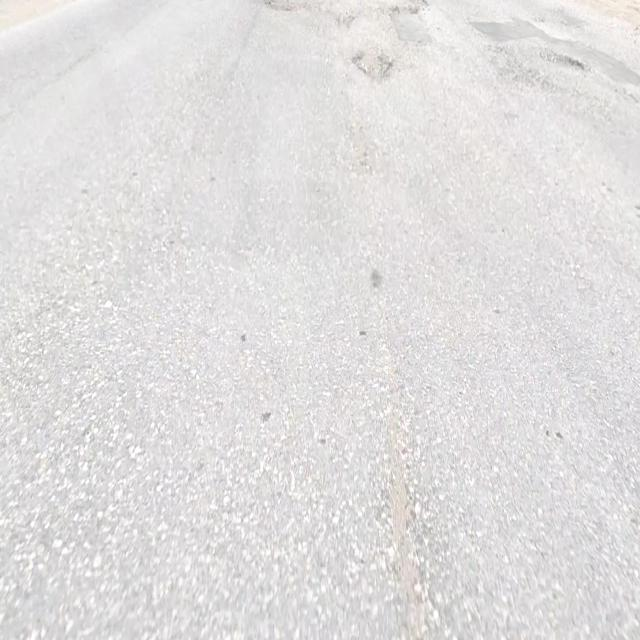Potholes: (351, 46, 394, 81), (264, 0, 312, 13), (391, 0, 429, 16)
